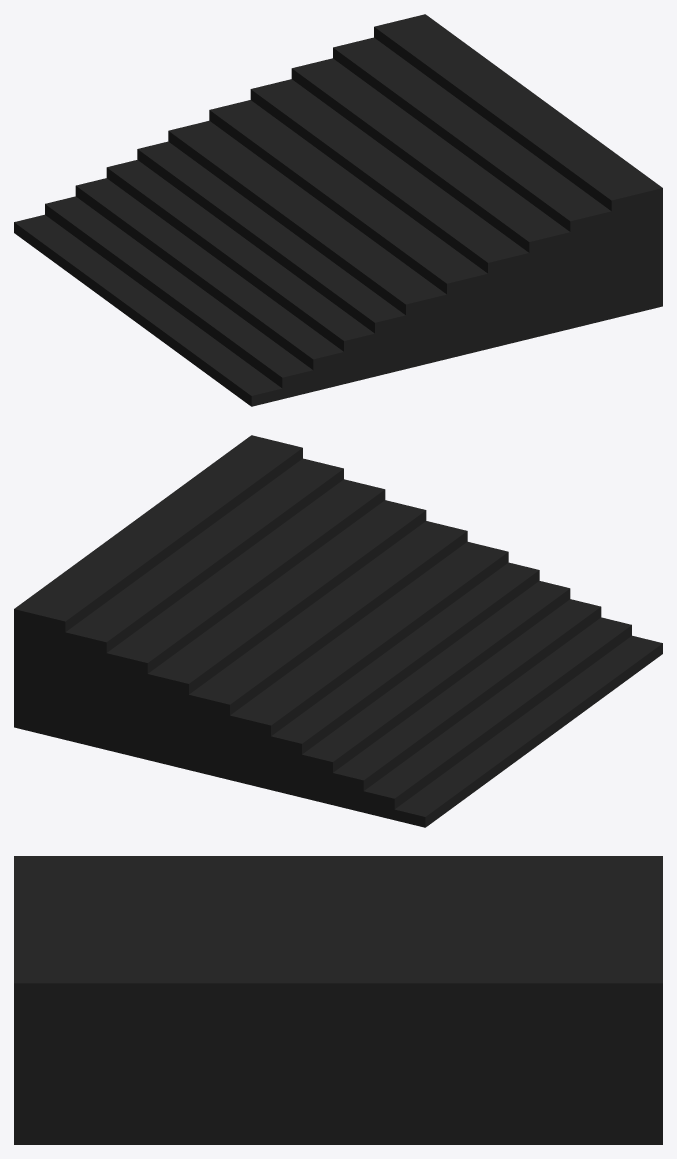
File: Stairs.obj
3 renders of one model, top to bottom at view 1: azimuth 30°, elevation 25°; view 2: azimuth 150°, elevation 25°; view 3: azimuth 270°, elevation 25°, orthographic. The views are drawn at different scales.
Bounding box in the file's own units: 4 × 1.1 × 4.
1 material, 1 textured.
